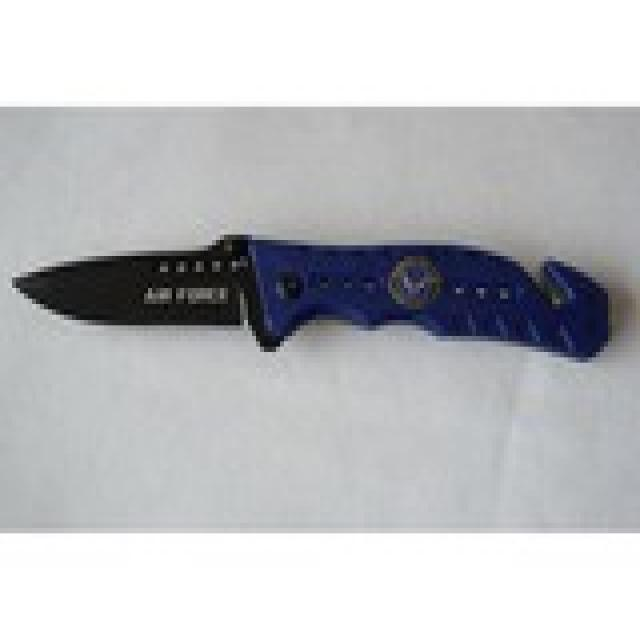Knife: (6, 244, 624, 379)
